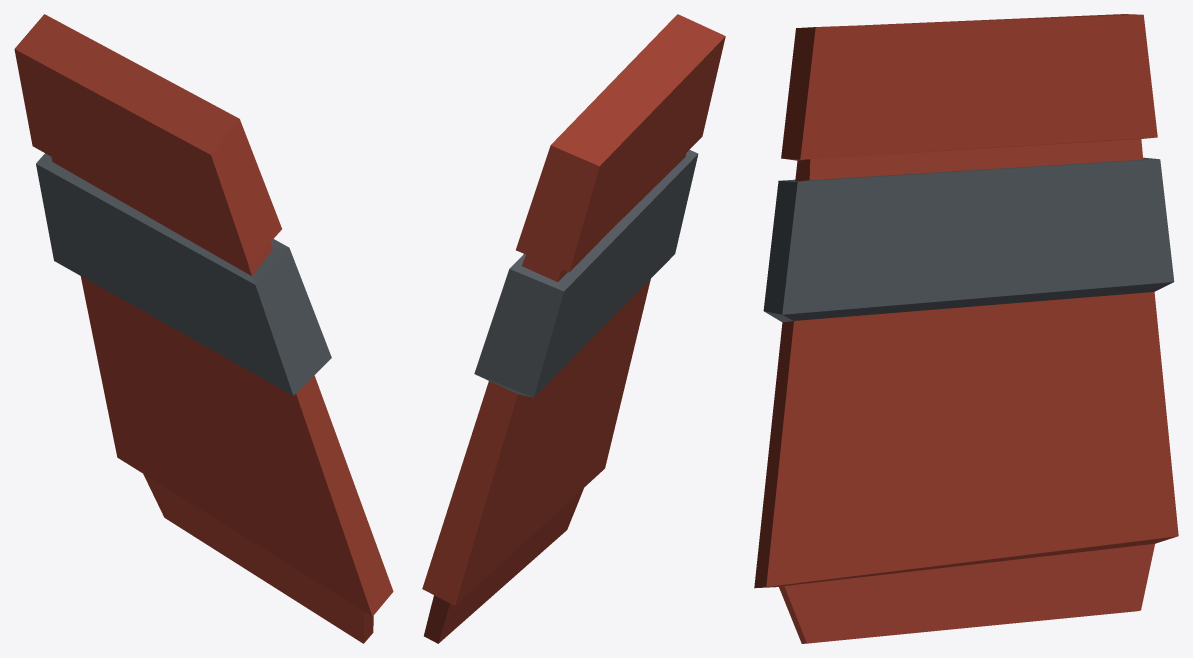
File: Dropship_01_Flap_Right_Red.fbx
The picture shows the model from 3 angles, left to right: view 1: azimuth 30°, elevation 25°; view 2: azimuth 150°, elevation 25°; view 3: azimuth 270°, elevation 25°; orthographic projection.
Parts seen in each view (by area): view 1: Dropship_01_Flap_Right_Red; view 2: Dropship_01_Flap_Right_Red; view 3: Dropship_01_Flap_Right_Red.
Boxes of the visible parts, x1,y1,x2,y2 form: Dropship_01_Flap_Right_Red: (14,14,393,643); Dropship_01_Flap_Right_Red: (422,14,725,643); Dropship_01_Flap_Right_Red: (754,14,1178,643).
Size of the model in its own units: 119 by 306 by 211.
Materials: 1 (1 with a texture image).
